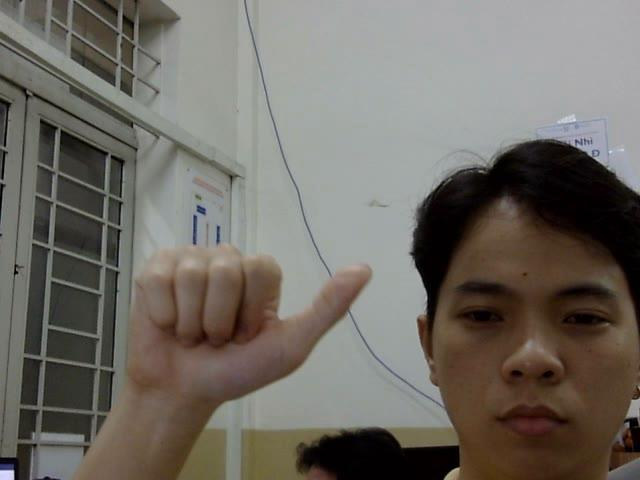A: (121, 233, 374, 394)
